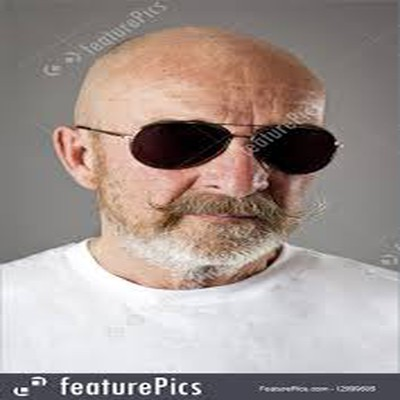eywear: (92, 98, 344, 195)
